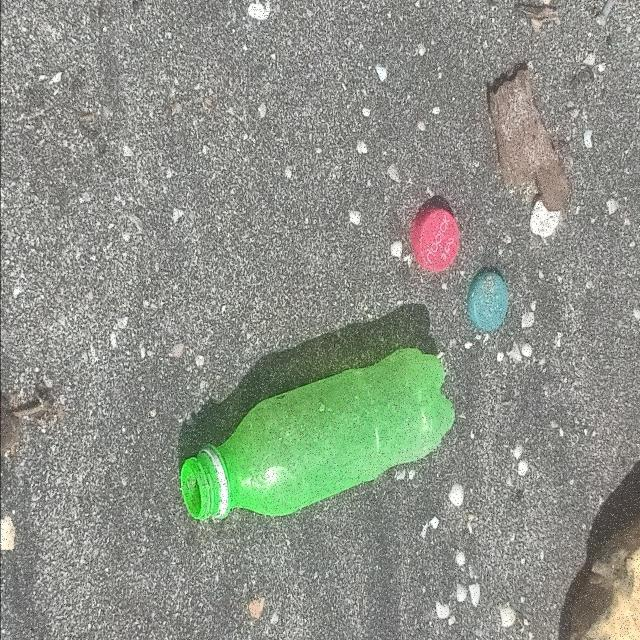plastic_waste: (182, 349, 455, 520), (411, 209, 461, 273), (469, 272, 510, 334)
